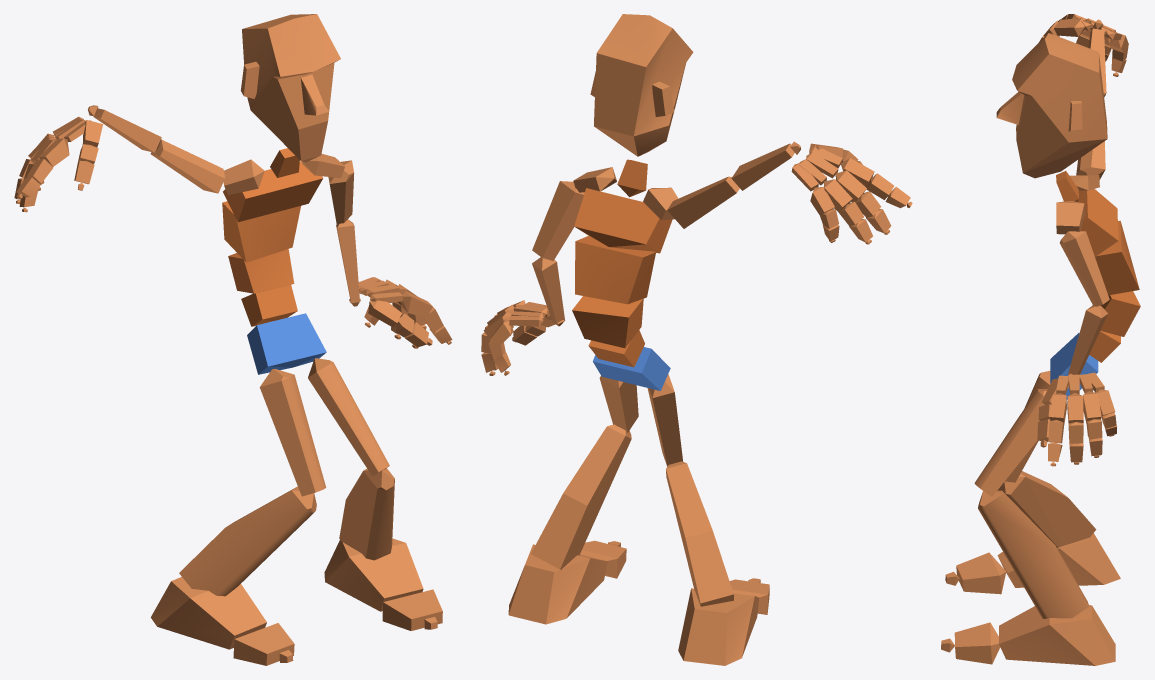
3 renders of one model, left to right at view 1: azimuth 30°, elevation 25°; view 2: azimuth 150°, elevation 25°; view 3: azimuth 270°, elevation 25°, orthographic. The views are drawn at different scales.
Parts seen in each view (by area): view 1: BOPED_Head, BOPED_R_leg, BOPED_R_foot, BOPED_R_foot01, BOPED_R_legup, BOPED_L_leg, Bone01, BOPED_L_legup, Bone04, Bone05, Bone03, BOPED_R_arm_upper (+8 smaller); view 2: BOPED_Head, BOPED_L_leg, BOPED_R_foot01, BOPED_R_leg, BOPED_R_foot, Bone04, Bone05, Bone03, BOPED_L_arm_upper, BOPED_R_legup, Bone01, BOPED_R_arm_upper (+9 smaller); view 3: BOPED_Head, BOPED_L_leg, BOPED_R_foot01, BOPED_R_leg, BOPED_L_legup, BOPED_R_foot, Bone05, BOPED_L_arm_upper, Bone04, BOPED_R_foot_toe01, BOPED_R_foot_toe04, BOPED_L_arm_fore (+16 smaller).
Boxes of the visible parts, x1,y1,x2,y2 form: BOPED_Head: (240, 14, 340, 162); BOPED_R_leg: (179, 486, 316, 596); BOPED_R_foot: (151, 577, 266, 649); BOPED_R_foot01: (324, 538, 423, 611); BOPED_R_legup: (259, 369, 326, 496); BOPED_L_leg: (339, 468, 394, 560); Bone01: (247, 313, 326, 374); BOPED_L_legup: (308, 358, 389, 476); Bone04: (222, 201, 300, 262); Bone05: (223, 161, 323, 222); Bone03: (228, 249, 294, 293); BOPED_R_arm_upper: (150, 139, 225, 193); BOPED_Head: (590, 14, 693, 156); BOPED_L_leg: (531, 424, 631, 569); BOPED_R_foot01: (508, 544, 607, 624); BOPED_R_leg: (666, 461, 733, 606); BOPED_R_foot: (678, 588, 759, 665); Bone04: (575, 236, 655, 304); Bone05: (574, 188, 672, 253); Bone03: (572, 296, 643, 348); BOPED_L_arm_upper: (532, 181, 584, 260); BOPED_R_legup: (647, 374, 683, 466); Bone01: (592, 347, 670, 390); BOPED_R_arm_upper: (667, 176, 739, 228); BOPED_Head: (996, 33, 1107, 178); BOPED_L_leg: (978, 490, 1089, 618); BOPED_R_foot01: (999, 605, 1115, 665); BOPED_R_leg: (997, 471, 1096, 547); BOPED_L_legup: (974, 389, 1047, 496); BOPED_R_foot: (997, 533, 1120, 587); Bone05: (1078, 189, 1118, 256); BOPED_L_arm_upper: (1059, 231, 1109, 306); Bone04: (1095, 220, 1139, 295); BOPED_R_foot_toe01: (956, 552, 1006, 594); BOPED_R_foot_toe04: (954, 622, 1000, 664); BOPED_L_arm_fore: (1068, 305, 1108, 374).
Size of the model in its own units: 135 by 179 by 56.5.
